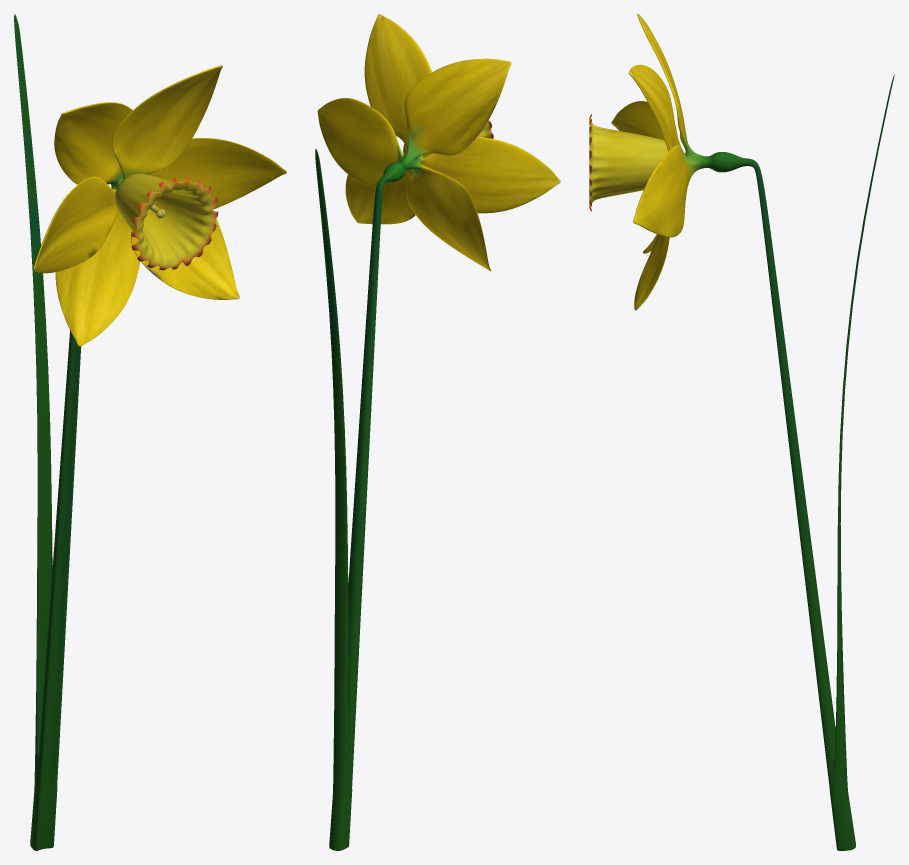
The model's file is daffodil.gltf.
3 renders of one model, left to right at view 1: azimuth 30°, elevation 25°; view 2: azimuth 150°, elevation 25°; view 3: azimuth 270°, elevation 25°, orthographic. The views are drawn at different scales.
Visible parts, largest first — view 1: 12977_Daffodil_flower_v1_l2; view 2: 12977_Daffodil_flower_v1_l2; view 3: 12977_Daffodil_flower_v1_l2.
Boxes of the visible parts, x1,y1,x2,y2 form: 12977_Daffodil_flower_v1_l2: (14, 14, 286, 850); 12977_Daffodil_flower_v1_l2: (315, 14, 560, 850); 12977_Daffodil_flower_v1_l2: (589, 14, 894, 850).
Size of the model in its own units: 0.2883 by 0.8825 by 0.3034.
1 material, 1 textured.
